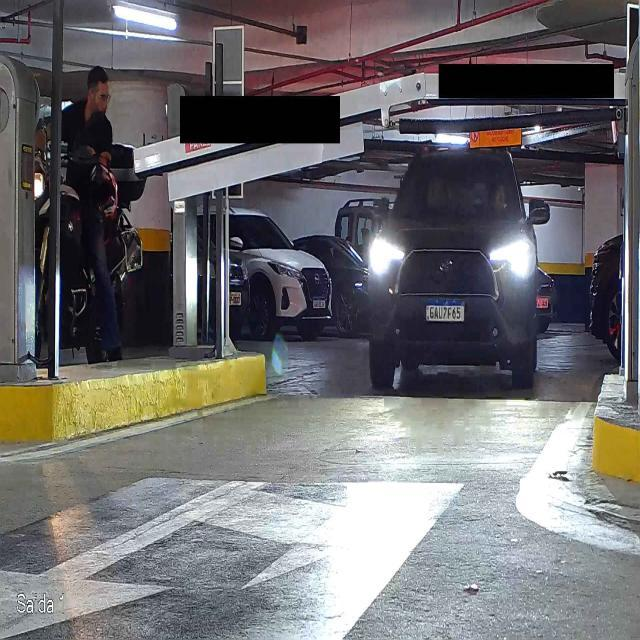mercosul_plate: (424, 300, 466, 323)
